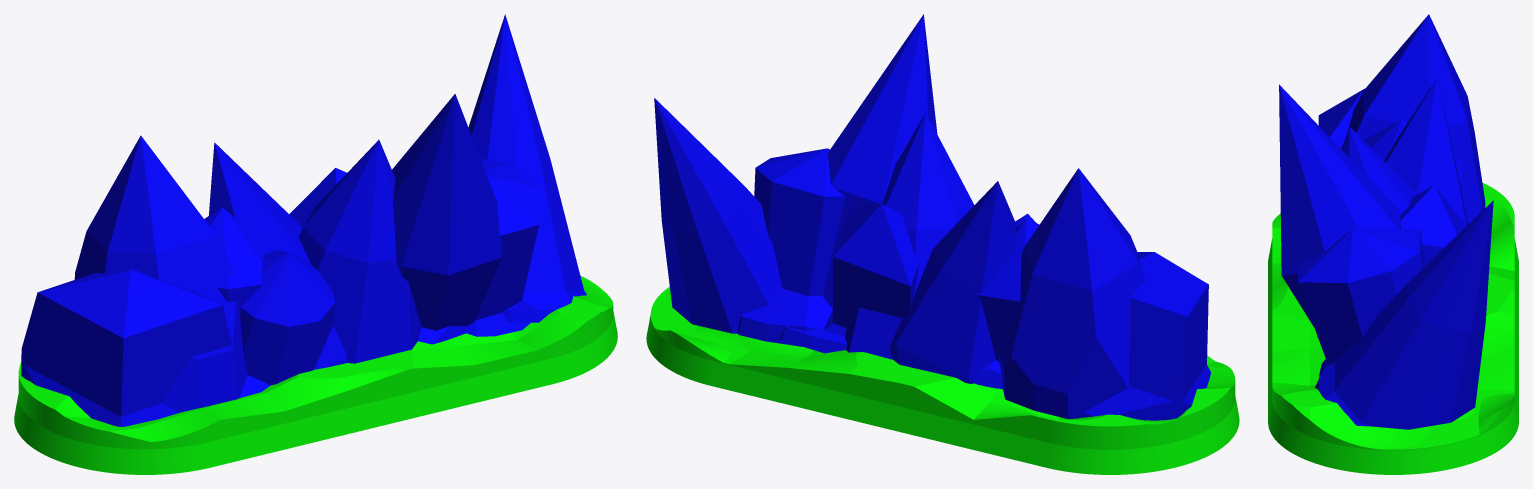
The model's file is crystal_wall.gltf.
3 views of the same model, side by side, from view 1: azimuth 30°, elevation 25°; view 2: azimuth 150°, elevation 25°; view 3: azimuth 270°, elevation 25° (orthographic). The views are drawn at different scales.
Visible parts, largest first — view 1: crystals, base; view 2: crystals, base; view 3: crystals, base.
Part boxes in pixels (x1=…): crystals: x1=21, y1=14, x2=586, y2=426; base: x1=14, y1=275, x2=617, y2=474; crystals: x1=654, y1=14, x2=1210, y2=420; base: x1=646, y1=286, x2=1239, y2=474; crystals: x1=1279, y1=14, x2=1493, y2=429; base: x1=1268, y1=182, x2=1518, y2=474.
Size of the model in its own units: 74.99 by 38.94 by 30.
